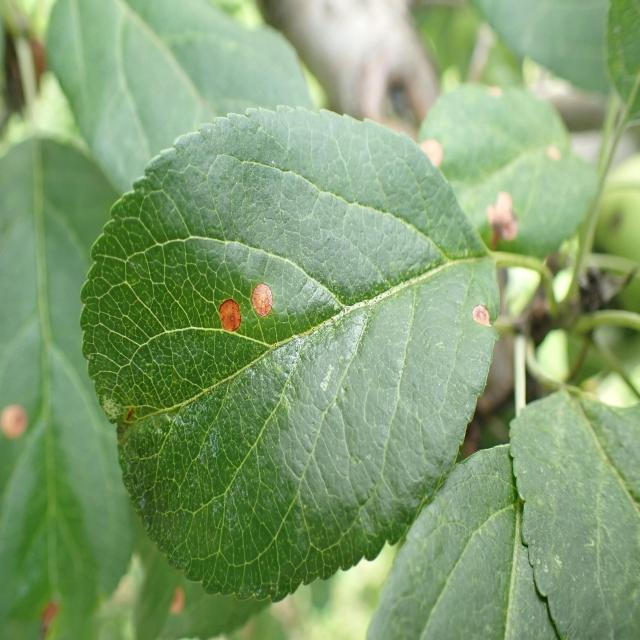Black Rot: (476, 181, 521, 256), (205, 283, 249, 340), (0, 390, 40, 442), (418, 130, 449, 184), (248, 271, 279, 323), (461, 295, 496, 341), (539, 129, 565, 175)
